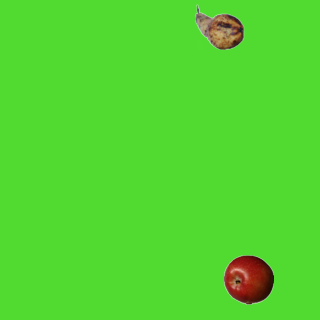Apple Braeburn: (223, 254, 273, 304)
Pear Abate: (194, 2, 244, 52)
